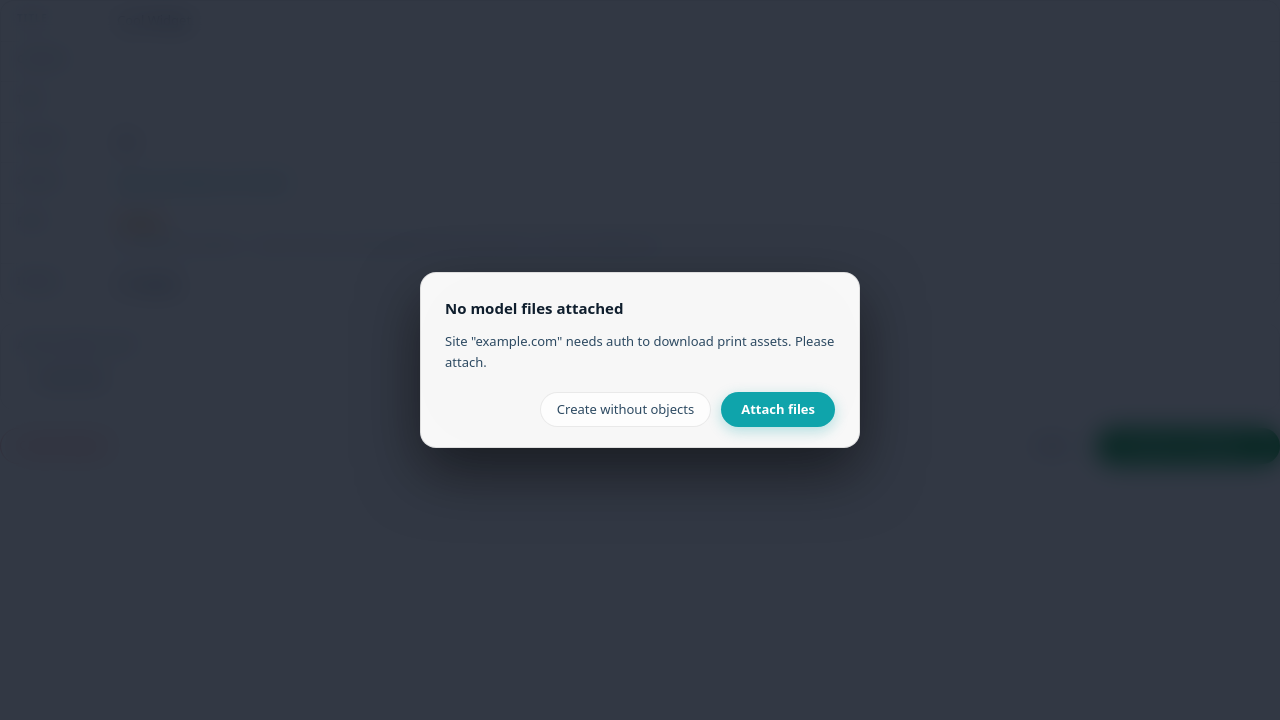
Test case: SummaryStep — attach-or-create modal for url+0-file sessions › "Attach files" button closes the modal
Expected: the dialog is shown, 420,272 -> 860,448
Click the button "Attach files".
click(778, 409)  # box 721,392 -> 835,427
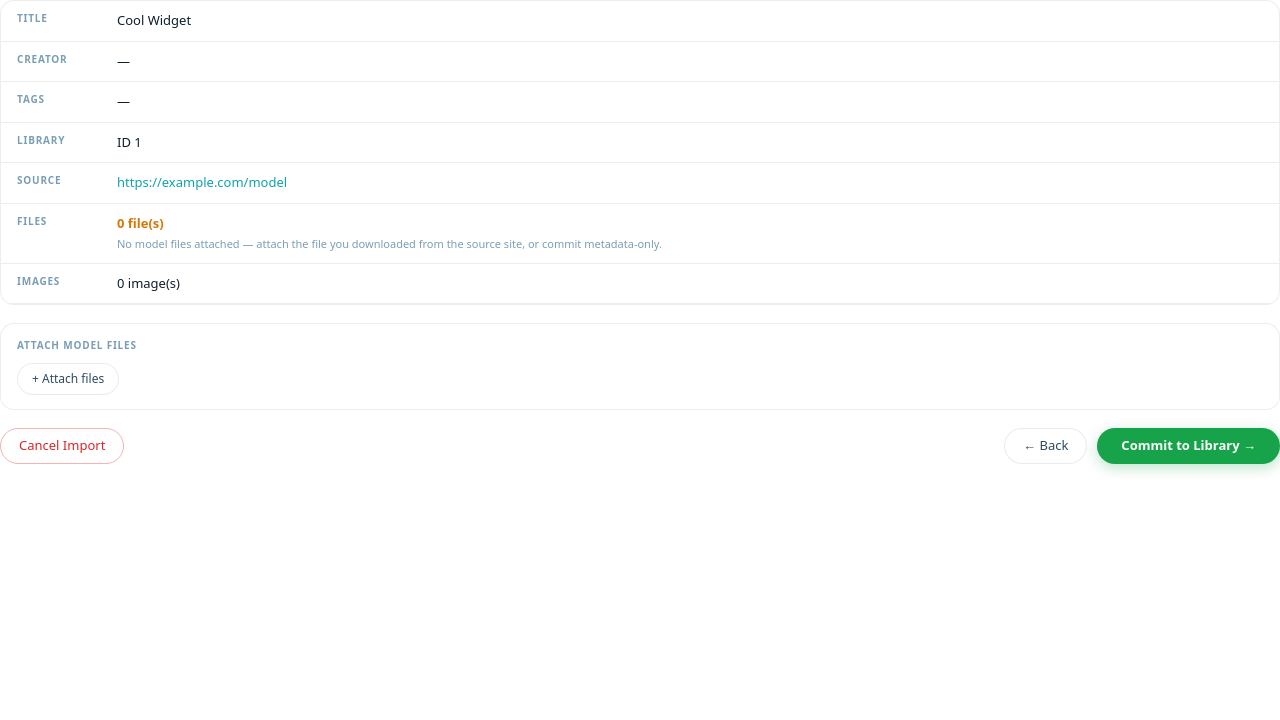
Expected: the dialog is gone
